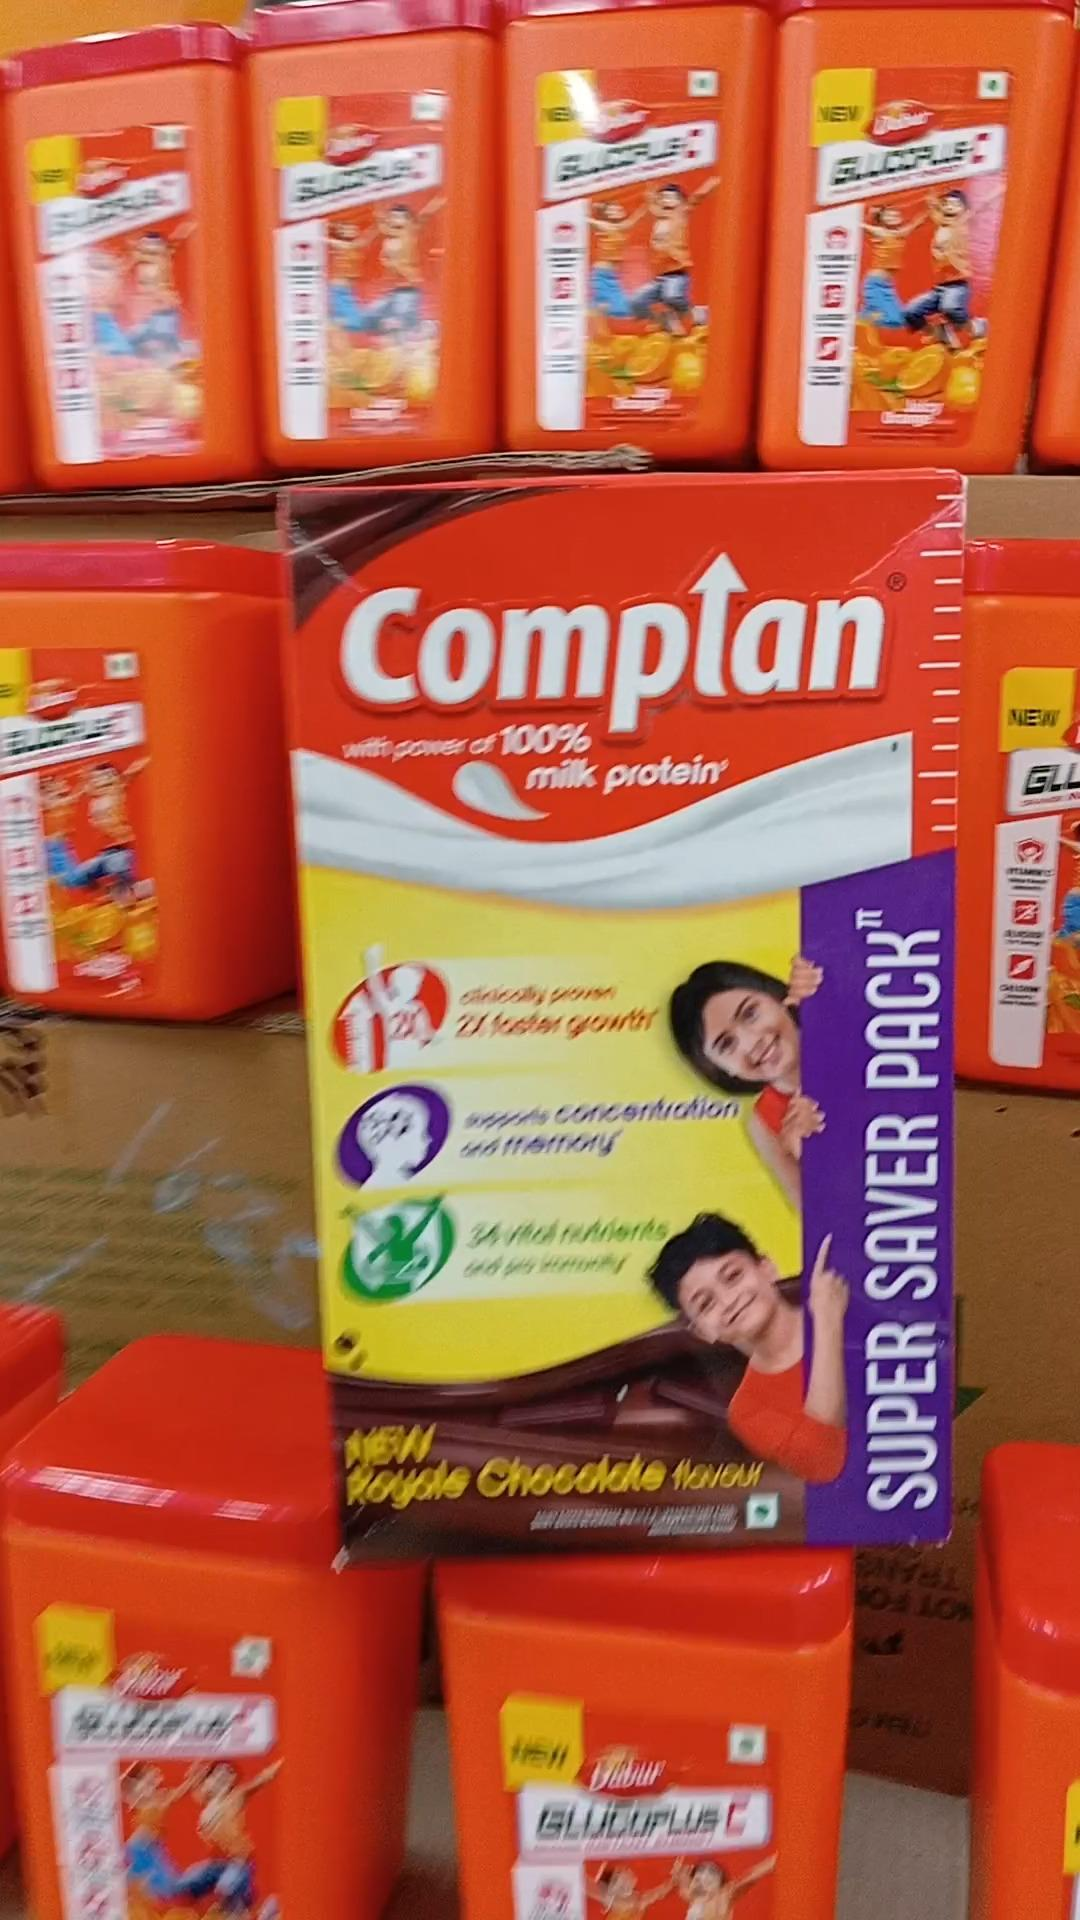COMPLAN_CHOCOLATE_1_KG_PACK: (297, 476, 968, 1544)
